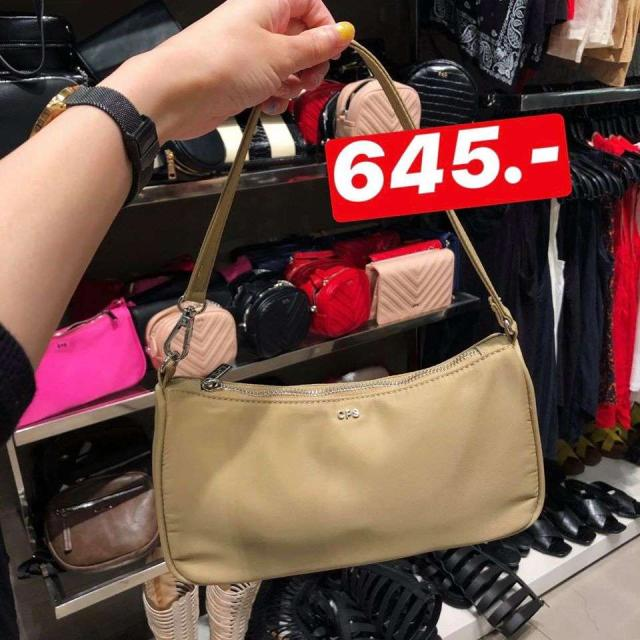Handbag: (137, 327, 549, 583)
